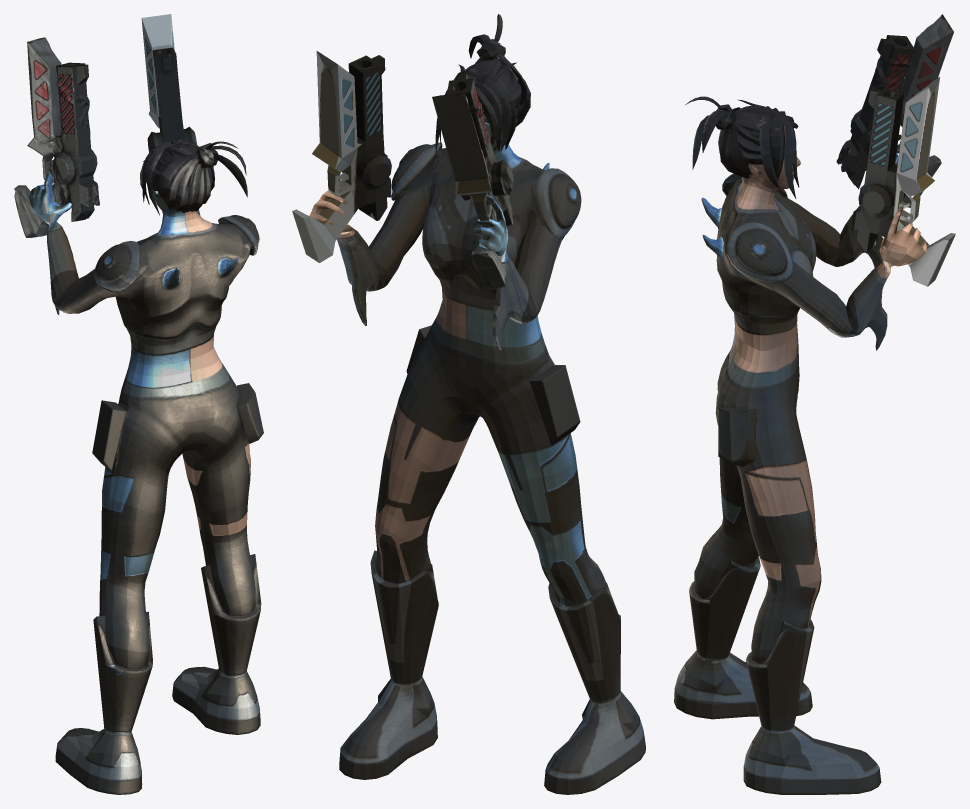
3 renders of one model, left to right at view 1: azimuth 30°, elevation 25°; view 2: azimuth 150°, elevation 25°; view 3: azimuth 270°, elevation 25°, orthographic. The views are drawn at different scales.
Visible parts, largest first — view 1: Dex_LOW_Plane.001; view 2: Dex_LOW_Plane.001; view 3: Dex_LOW_Plane.001.
Boxes of the visible parts, left/top/right/bottom form: Dex_LOW_Plane.001: left=14, top=14, right=263, bottom=794; Dex_LOW_Plane.001: left=292, top=14, right=645, bottom=794; Dex_LOW_Plane.001: left=674, top=14, right=955, bottom=794.
Bounding box in the file's own units: 1.63 × 5.08 × 1.85.
